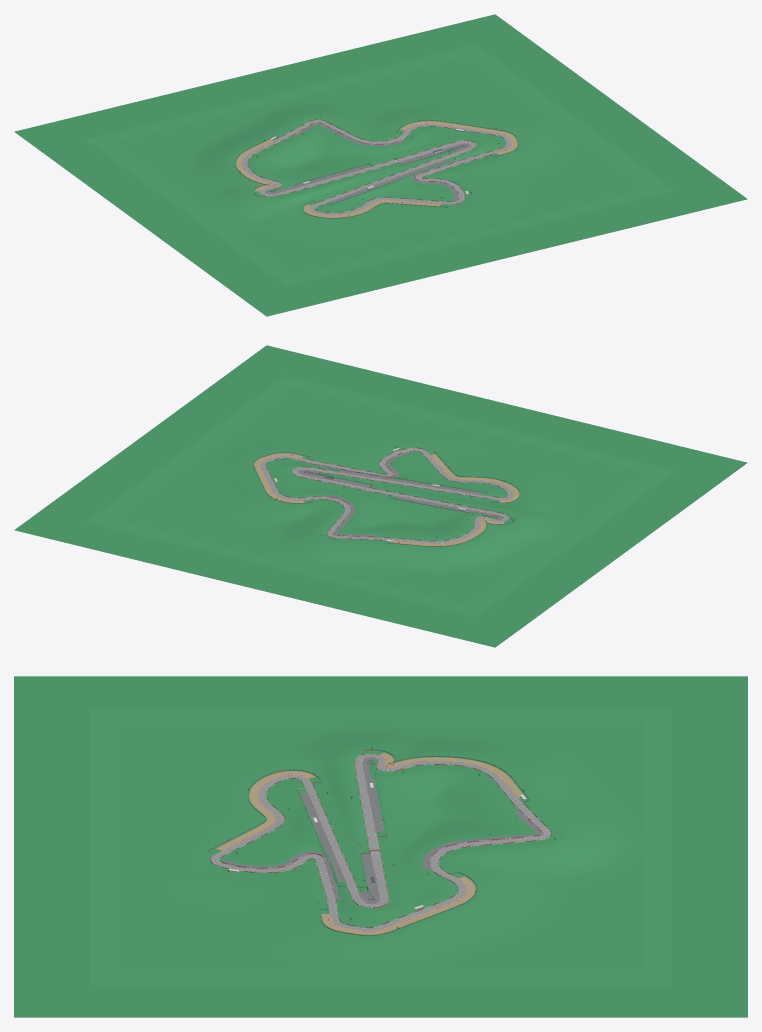
Rendered from sepang.glb.
3 renders of one model, top to bottom at view 1: azimuth 30°, elevation 25°; view 2: azimuth 150°, elevation 25°; view 3: azimuth 270°, elevation 25°, orthographic. The views are drawn at different scales.
Parts seen in each view (by area): view 1: terrain_infield, terrain_outskirts, terrain_verge, track_surface, continuous_safety_barriers, asphalt_runoff_zones, track_runoff, gravel_runoff_zones, track_embankment; view 2: terrain_infield, terrain_outskirts, terrain_verge, track_surface, continuous_safety_barriers, asphalt_runoff_zones, track_runoff, gravel_runoff_zones, track_embankment; view 3: terrain_infield, terrain_outskirts, terrain_verge, track_surface, asphalt_runoff_zones, gravel_runoff_zones, track_runoff, continuous_safety_barriers, track_embankment, track_curbs.
Boxes of the visible parts, x1=… form: terrain_infield: x1=112, y1=55, x2=649, y2=275; terrain_outskirts: x1=14, y1=14, x2=747, y2=316; terrain_verge: x1=86, y1=44, x2=675, y2=286; track_surface: x1=242, y1=120, x2=510, y2=214; continuous_safety_barriers: x1=235, y1=119, x2=518, y2=218; asphalt_runoff_zones: x1=265, y1=122, x2=472, y2=202; track_runoff: x1=241, y1=120, x2=511, y2=215; gravel_runoff_zones: x1=236, y1=121, x2=517, y2=217; track_embankment: x1=247, y1=120, x2=505, y2=212; terrain_infield: x1=112, y1=386, x2=649, y2=606; terrain_outskirts: x1=14, y1=345, x2=747, y2=647; terrain_verge: x1=86, y1=375, x2=675, y2=617; track_surface: x1=261, y1=448, x2=512, y2=543; continuous_safety_barriers: x1=253, y1=447, x2=520, y2=546; asphalt_runoff_zones: x1=297, y1=450, x2=503, y2=537; track_runoff: x1=260, y1=448, x2=513, y2=544; gravel_runoff_zones: x1=254, y1=453, x2=519, y2=546; track_embankment: x1=265, y1=448, x2=509, y2=541; terrain_infield: x1=118, y1=720, x2=643, y2=973; terrain_outskirts: x1=14, y1=676, x2=747, y2=1017; terrain_verge: x1=90, y1=708, x2=671, y2=985; track_surface: x1=212, y1=754, x2=549, y2=930; asphalt_runoff_zones: x1=221, y1=757, x2=543, y2=904; gravel_runoff_zones: x1=216, y1=752, x2=524, y2=934; track_runoff: x1=210, y1=754, x2=551, y2=931; continuous_safety_barriers: x1=207, y1=749, x2=551, y2=935; track_embankment: x1=209, y1=753, x2=552, y2=927; track_curbs: x1=212, y1=754, x2=549, y2=930.
Size of the model in its own units: 2330 by 32.46 by 2119.
